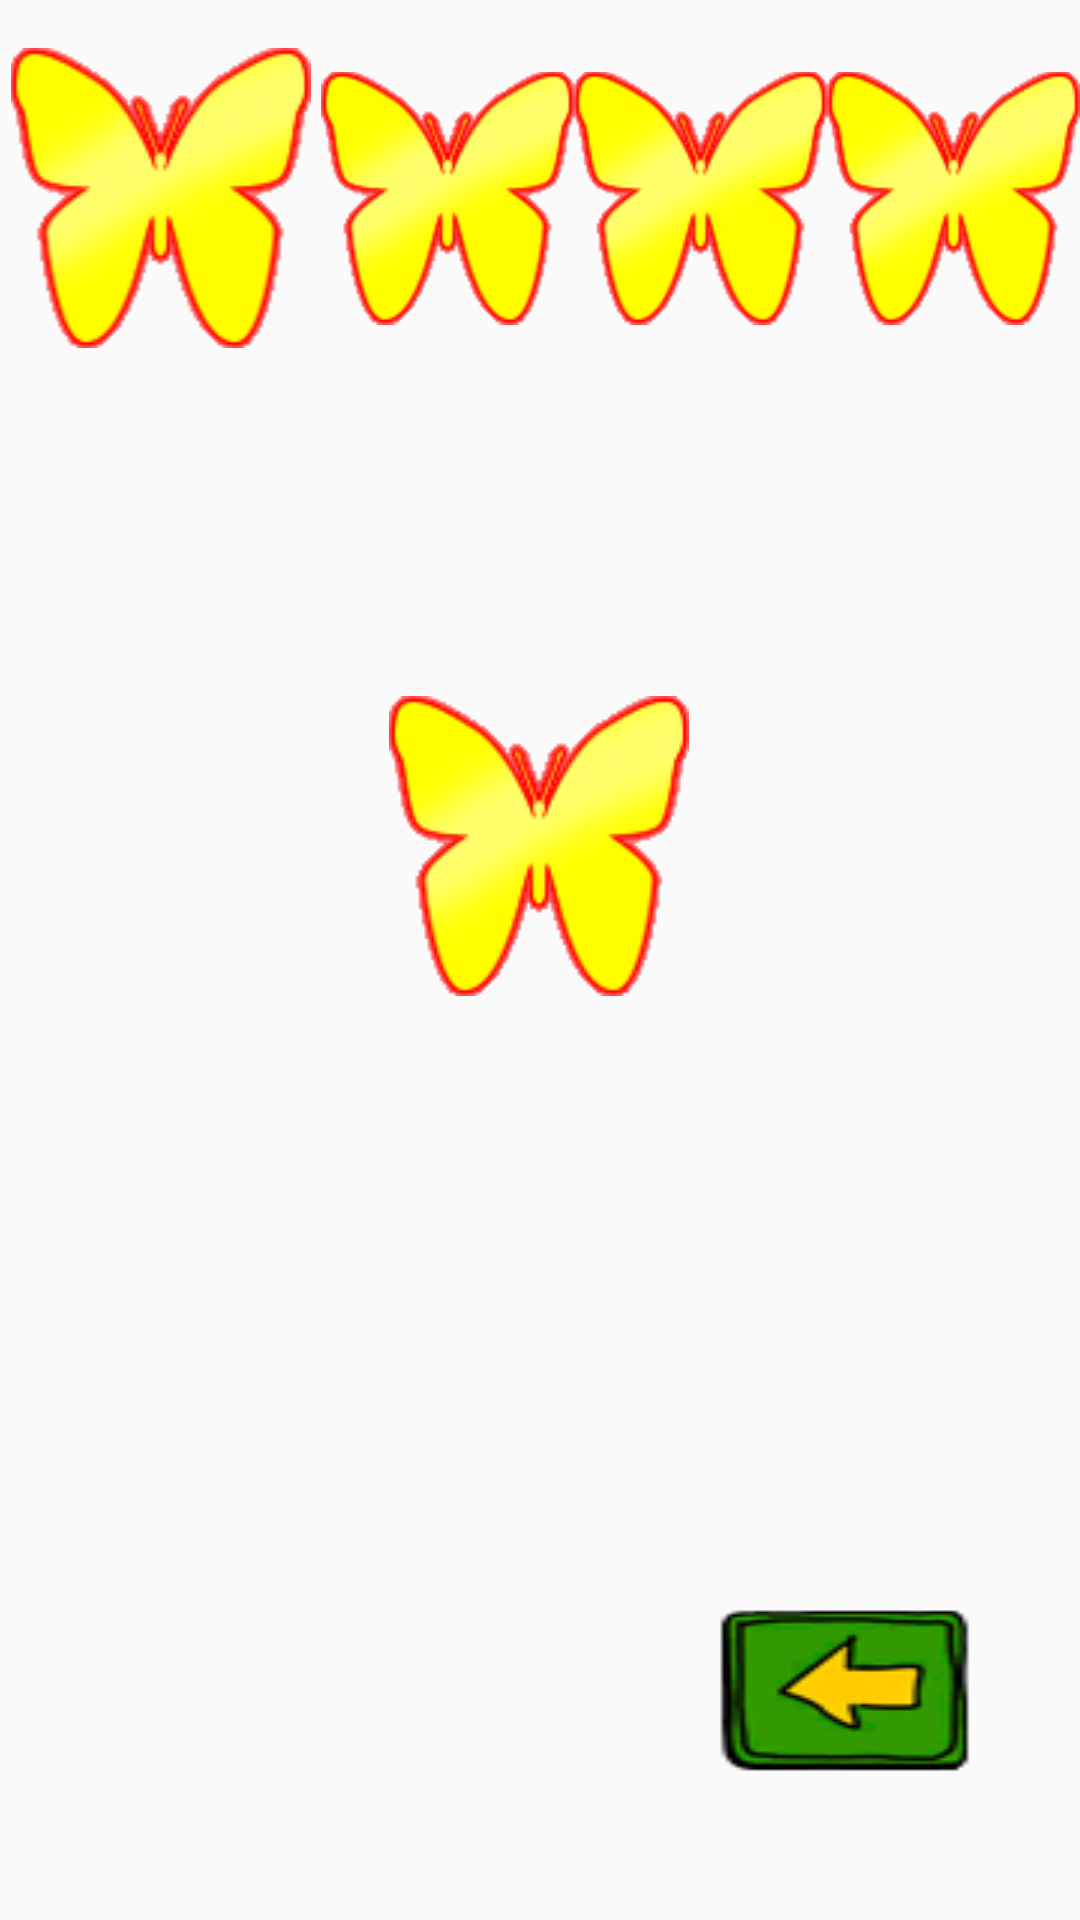

Icons on this 1080px x 1920px Android screen, each with its box as rect(x1, y1, x2, y2):
borboleta colorida brilho: rect(11, 48, 311, 348), rect(321, 72, 574, 325), rect(574, 72, 827, 325), rect(827, 72, 1080, 325), rect(389, 696, 689, 996)
voltar: rect(720, 1610, 969, 1771)
